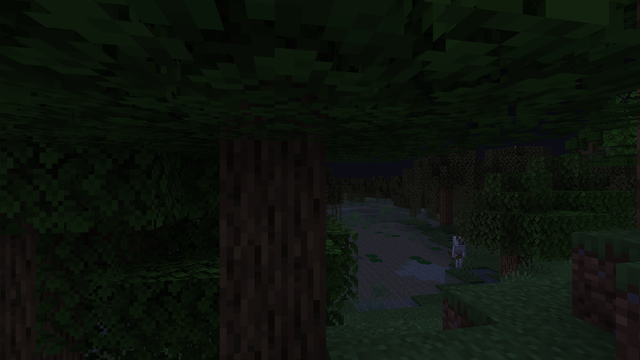squelettes: (451, 236, 466, 270)
